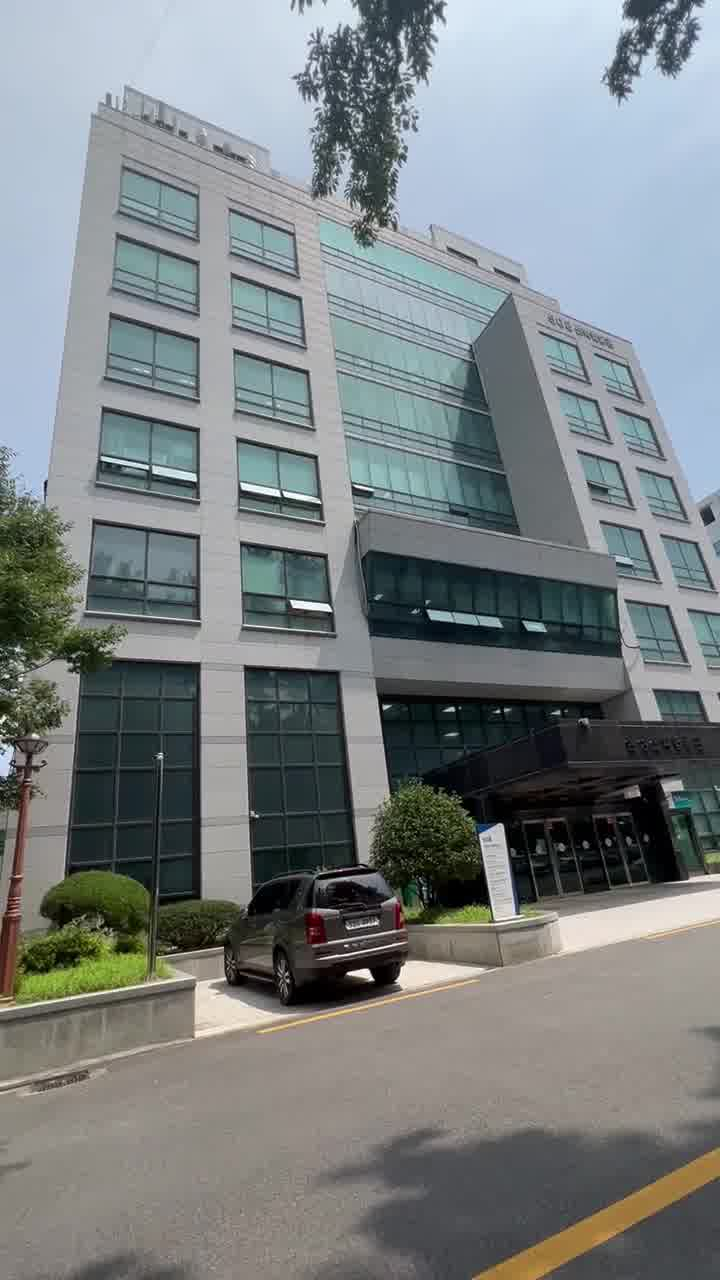medium: (66, 98, 720, 882)
